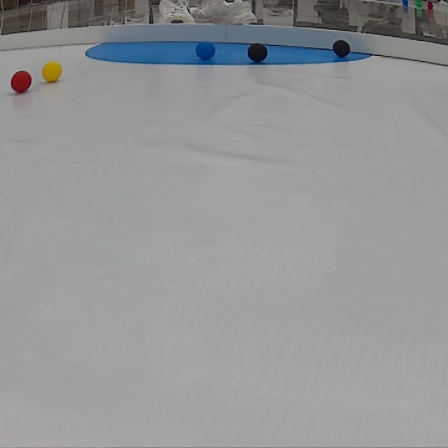black: (245, 42, 271, 62), (330, 38, 354, 55)
blue: (195, 39, 224, 67)
blue_base: (82, 44, 379, 72)
red: (11, 71, 31, 92)
yellow: (40, 61, 68, 85)
